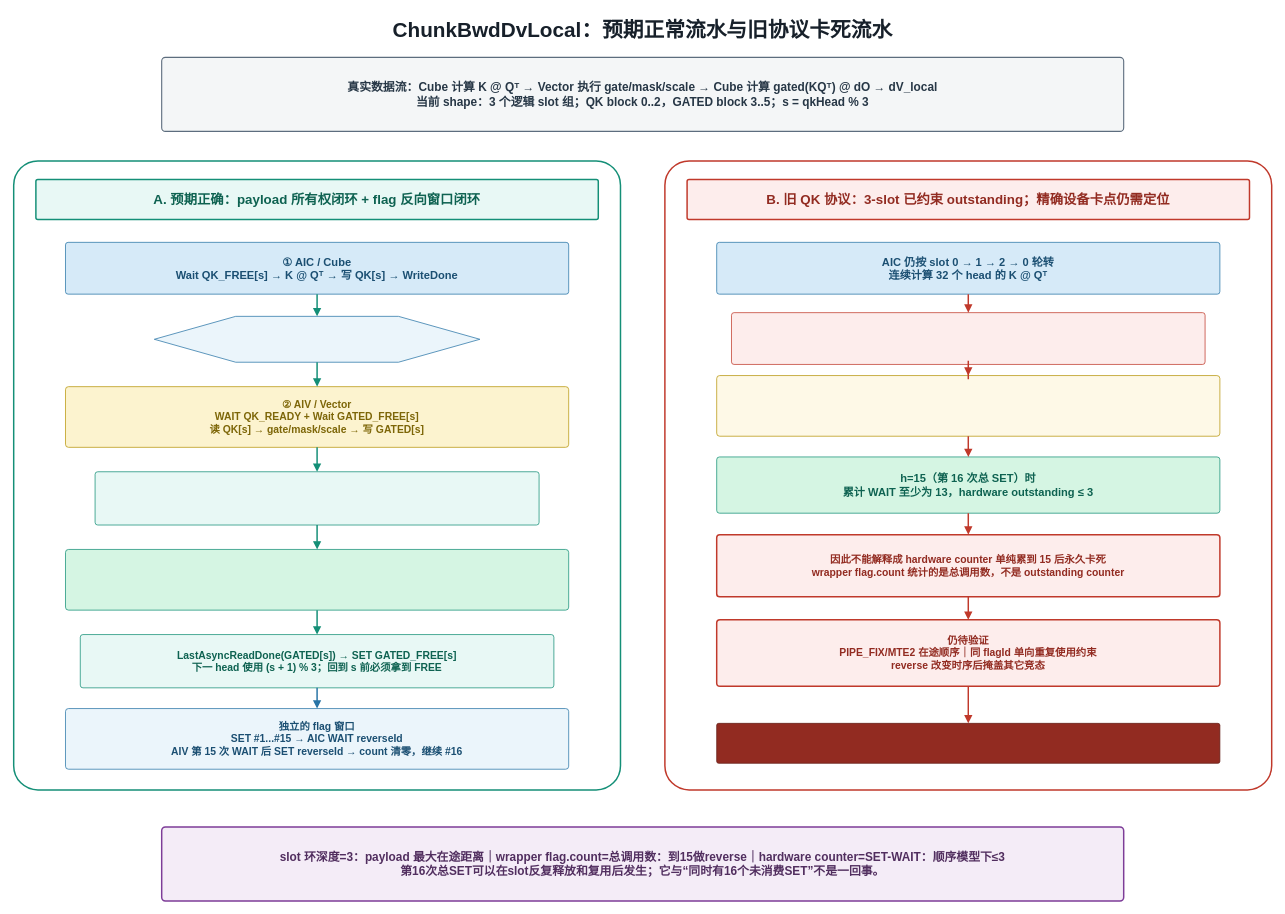
Some shapes in this 1285 by 914 pixel diagram are drawn without their labels. The shapes that lost their labels are listed below. From the top down, each one's centre as x and y in pixels, then its label:
At (317,339): "SET QK_READY 第 Depth 次 SET 后，AIC WAIT QK_REVERSE_ACK".
At (968,338): "官方 counter 语义 AIC SET：counter +1；AIV WAIT：counter -1；最大值 15".
At (968,405): "代码级 slot 证明 SET QK[h] 前先 WAIT GATED[h-3] 这蕴含 AIV 已 WAIT QK[h-3]".
At (316,498): "LastAsyncReadDone(QK[s]) → SET QK_FREE[s] WriteDone(GATED[s]) → SET GATED_READY".
At (317,579): "③ AIC / Cube WAIT GATED_READY → 读 GATED[s] gated(KQᵀ) @ dO → dV".
At (968,743): "没有设备 PC、pipe 在途状态和 flag 快照，精确卡点尚未确认".
